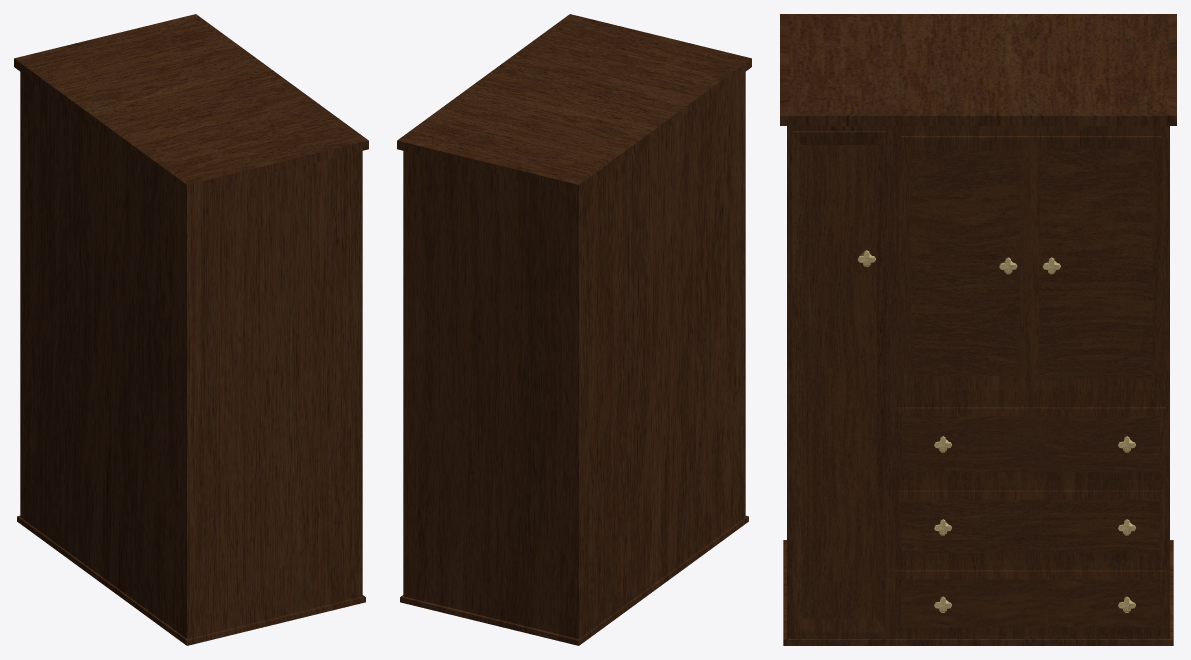
The model's file is Closet.fbx.
3 renders of one model, left to right at view 1: azimuth 30°, elevation 25°; view 2: azimuth 150°, elevation 25°; view 3: azimuth 270°, elevation 25°, orthographic. The views are drawn at different scales.
Parts seen in each view (by area): view 1: Cube; view 2: Cube; view 3: Cube.
Part boxes in pixels (left/top/right/bottom): Cube: left=14, top=14, right=368, bottom=645; Cube: left=397, top=14, right=751, bottom=645; Cube: left=780, top=14, right=1176, bottom=645.
Bounding box in the file's own units: 131 × 316 × 214.
2 materials, 2 textured.
